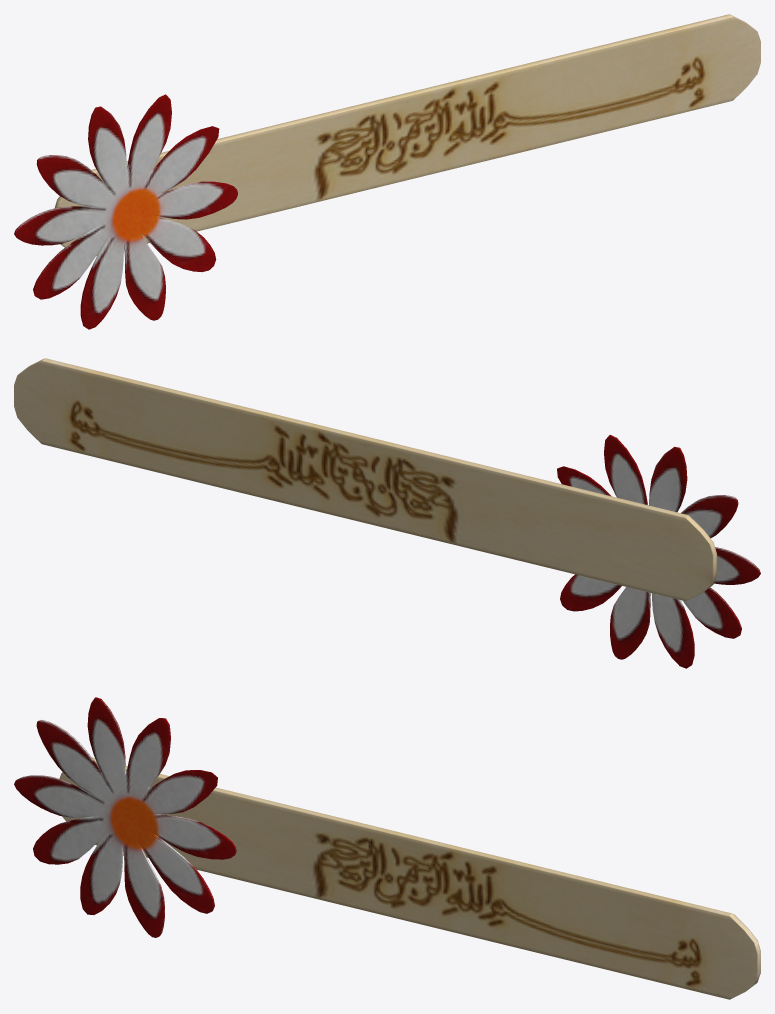
3 renders of one model, top to bottom at view 1: azimuth 30°, elevation 25°; view 2: azimuth 150°, elevation 25°; view 3: azimuth 330°, elevation 25°, orthographic.
Parts seen in each view (by area): view 1: pPlane2, pCylinder1; view 2: pPlane2, pCylinder1; view 3: pPlane2, pCylinder1.
Boxes of the visible parts, x1=… form: pPlane2: x1=55, y1=14, x2=760, y2=255; pCylinder1: x1=14, y1=94, x2=237, y2=329; pPlane2: x1=14, y1=358, x2=716, y2=600; pCylinder1: x1=557, y1=435, x2=760, y2=668; pPlane2: x1=59, y1=757, x2=760, y2=999; pCylinder1: x1=14, y1=697, x2=236, y2=937.
Bounding box in the file's own units: 7.95 × 2.3 × 0.0872.
Materials: 1 (1 with a texture image).
